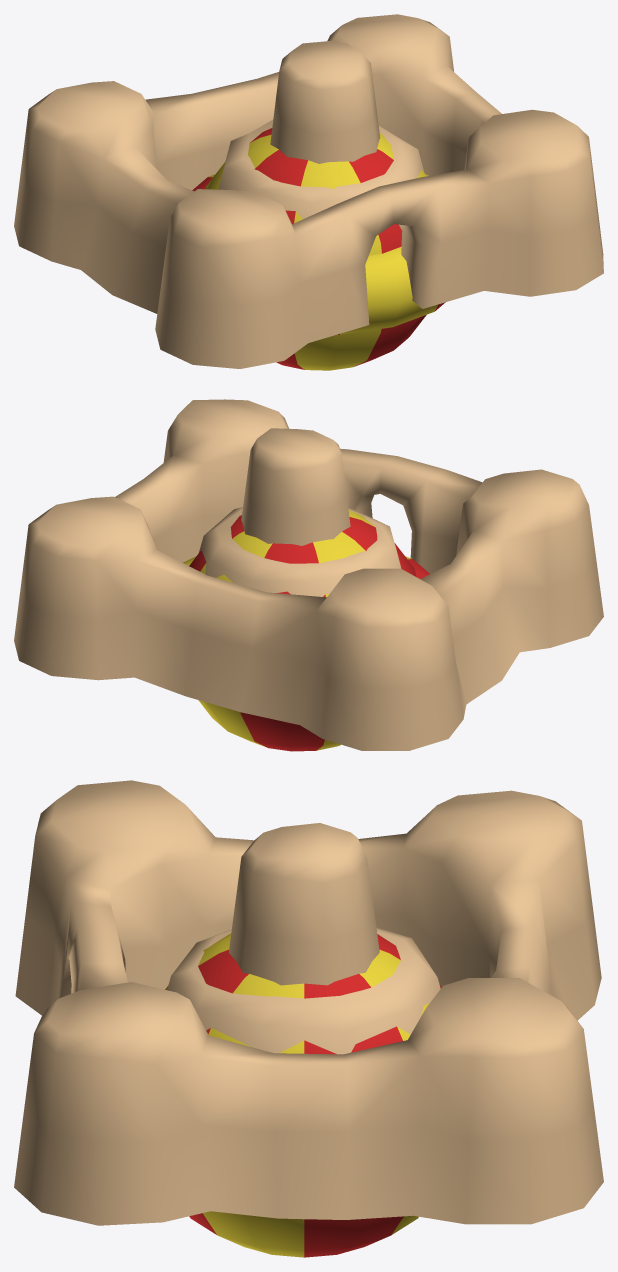
The model's file is polybeach_toys.fbx.
The picture shows the model from 3 angles, top to bottom: view 1: azimuth 30°, elevation 25°; view 2: azimuth 150°, elevation 25°; view 3: azimuth 270°, elevation 25°; orthographic projection. The views are drawn at different scales.
Visible parts, largest first — view 1: sandcastle01, sandcastle01.part2, beachball, sandcastle01.part1, Torus; view 2: sandcastle01, sandcastle01.part2, sandcastle01.part1, beachball; view 3: sandcastle01, sandcastle01.part2, sandcastle01.part1, beachball.
Boxes of the visible parts, x1,y1,x2,y2 form: sandcastle01: (14,14,603,368); sandcastle01.part2: (270,40,380,163); beachball: (205,128,426,370); sandcastle01.part1: (218,119,424,219); Torus: (192,174,445,334); sandcastle01: (14,399,603,750); sandcastle01.part2: (241,428,350,545); sandcastle01.part1: (199,507,401,596); beachball: (189,510,416,751); sandcastle01: (14,780,603,1225); sandcastle01.part2: (228,823,379,985); sandcastle01.part1: (167,927,440,1054); beachball: (165,933,441,1257).
Bounding box in the file's own units: 1.16 × 0.777 × 1.02.
